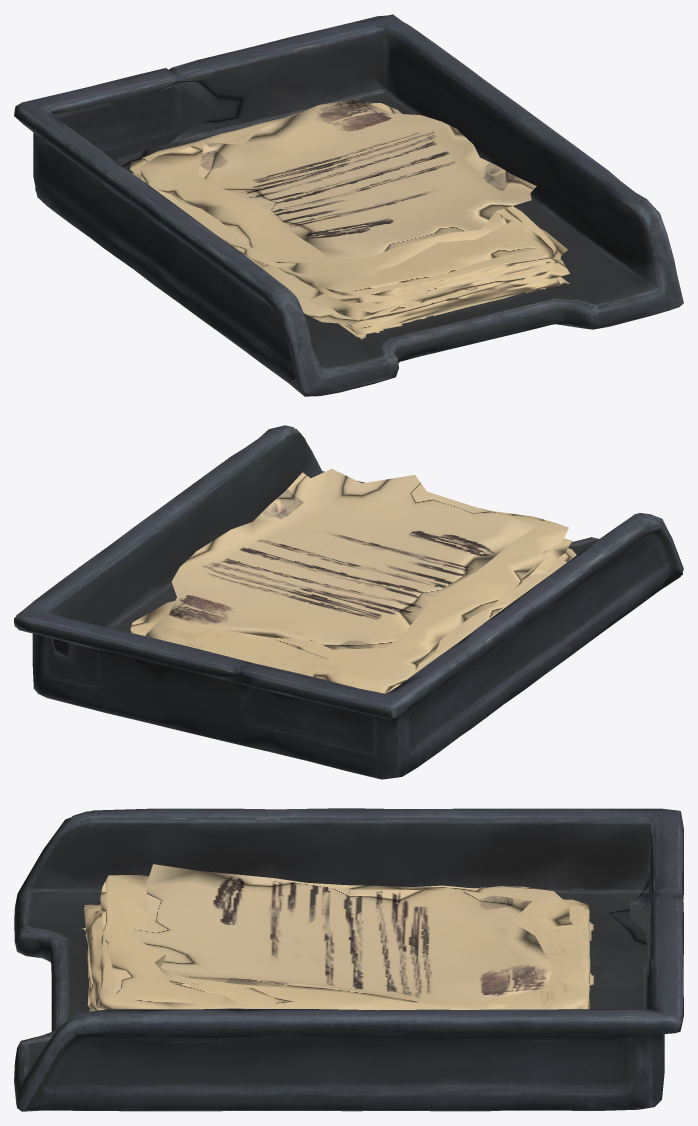
Rendered from facultyoffice_LetterTray.glb.
The picture shows the model from 3 angles, top to bottom: view 1: azimuth 30°, elevation 25°; view 2: azimuth 150°, elevation 25°; view 3: azimuth 270°, elevation 25°; orthographic projection. The views are drawn at different scales.
Parts seen in each view (by area): view 1: world; view 2: world; view 3: world.
Part boxes in pixels (<box>): world: <box>14,14,683,396</box>; world: <box>14,425,683,779</box>; world: <box>14,808,683,1111</box>.
Size of the model in its own units: 0.7525 by 0.1679 by 1.
Materials: 1 (1 with a texture image).
